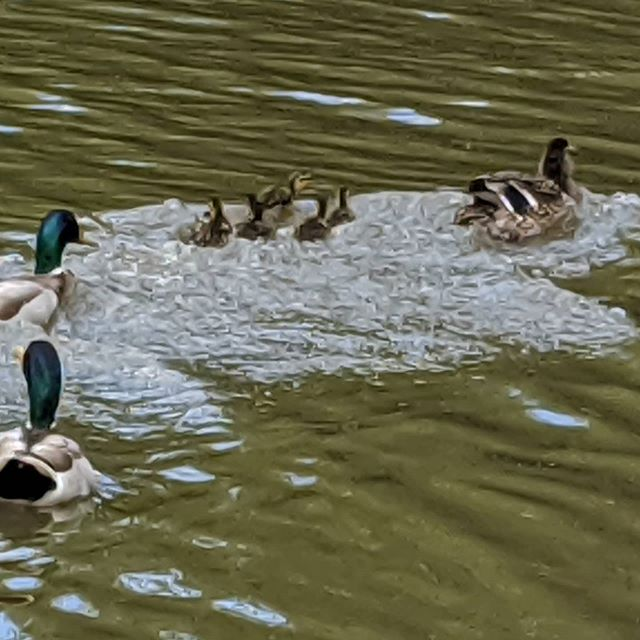animal: (1, 339, 117, 525), (446, 121, 605, 252), (1, 197, 116, 339), (160, 188, 240, 264), (303, 177, 364, 248), (231, 191, 273, 251), (262, 167, 322, 208)
river: (1, 1, 629, 636)
